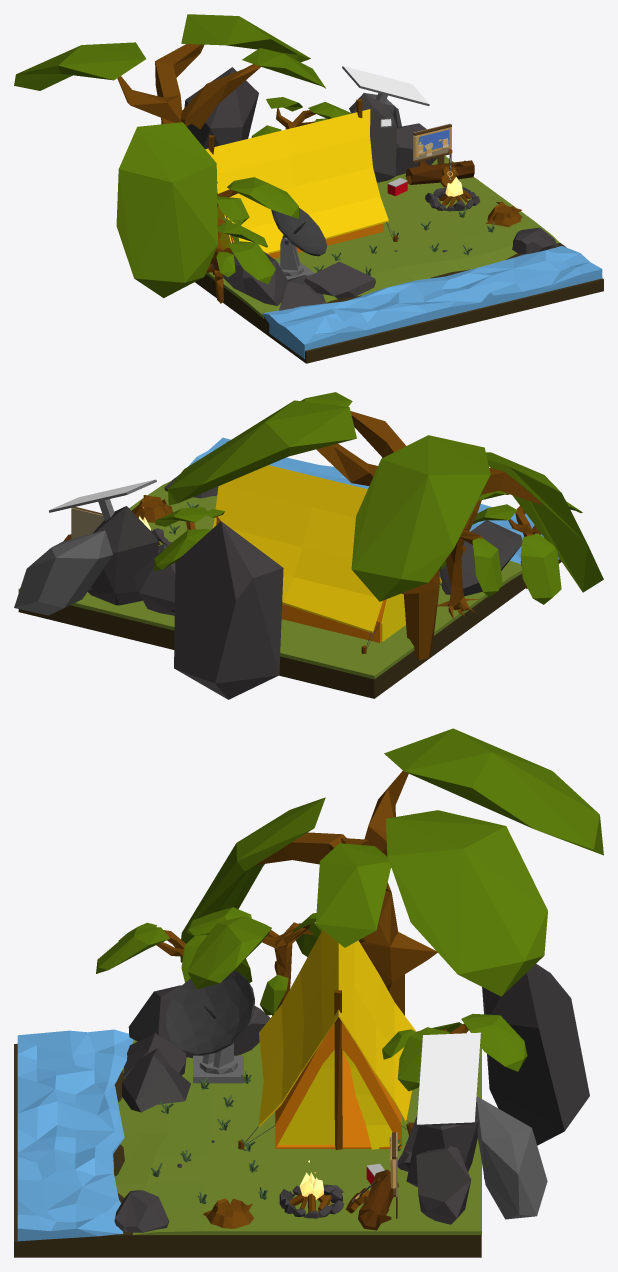
Rendered from campsite_baking1.glb.
3 views of the same model, one above another, from view 1: azimuth 30°, elevation 25°; view 2: azimuth 150°, elevation 25°; view 3: azimuth 270°, elevation 25° (orthographic). The views are drawn at different scales.
Parts seen in each view (by area): view 1: Large_tree, Tent_cover, Water, Grass_layer, Soil_layer, Rock2_2, Rock2_3, Rock2_1, Small_tree3, Small_tree1, Satellite Dish, Small_tree2 (+7 smaller); view 2: Large_tree, Rock2_3, Tent_cover, Grass_layer, Soil_layer, Rock2_1, Small_tree3, Small_tree1, Rock2_2, Small_tree2, Water, Tent_main (+4 smaller); view 3: Large_tree, Grass_layer, Water, Rock2_3, Tent_cover, Soil_layer, Satellite Dish, Small_tree1, Rock2_2, Rock2_1, Tent_main, Solar_panel_surface (+9 smaller).
Part boxes in pixels (box(x1,y1,x2,y2)): Large_tree: box(14, 14, 325, 298); Tent_cover: box(205, 109, 388, 253); Water: box(262, 246, 602, 358); Grass_layer: box(206, 155, 559, 318); Soil_layer: box(195, 243, 603, 363); Rock2_2: box(211, 251, 375, 310); Rock2_3: box(184, 67, 401, 149); Rock2_1: box(353, 93, 437, 182); Small_tree3: box(211, 221, 275, 303); Small_tree1: box(206, 177, 298, 272); Satellite Dish: box(271, 208, 326, 279); Small_tree2: box(251, 97, 350, 137); Large_tree: box(168, 392, 603, 659); Rock2_3: box(14, 521, 283, 699); Tent_cover: box(212, 465, 441, 633); Grass_layer: box(18, 480, 522, 679); Soil_layer: box(18, 477, 561, 698); Rock2_1: box(88, 506, 175, 615); Small_tree3: box(472, 501, 582, 604); Small_tree1: box(437, 490, 509, 618); Rock2_2: box(439, 520, 522, 596); Small_tree2: box(153, 507, 224, 571); Water: box(188, 437, 559, 563); Tent_main: box(281, 599, 386, 642); Large_tree: box(180, 728, 603, 1015); Grass_layer: box(114, 1040, 481, 1234); Water: box(17, 1029, 133, 1241); Rock2_3: box(475, 964, 589, 1219); Tent_cover: box(258, 930, 416, 1127); Soil_layer: box(14, 1043, 481, 1257); Satellite Dish: box(166, 970, 254, 1083); Small_tree1: box(186, 907, 322, 1015); Rock2_2: box(122, 985, 270, 1112); Rock2_1: box(397, 1116, 478, 1224); Tent_main: box(275, 1022, 401, 1148); Solar_panel_surface: box(417, 1032, 480, 1124).
Bounding box in the file's own units: 10.67 × 5.69 × 10.09.
